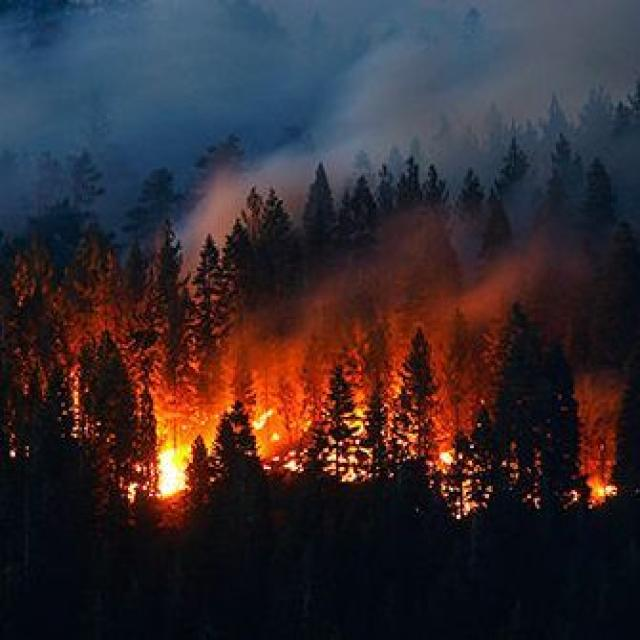Fire: (276, 410, 447, 468), (154, 442, 199, 500)
Smoke: (109, 18, 608, 411)
